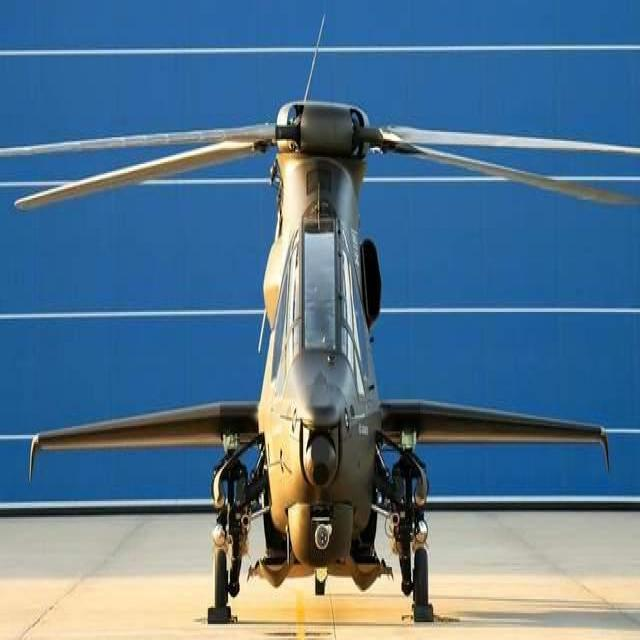MIL_HELO: (9, 71, 640, 630)
